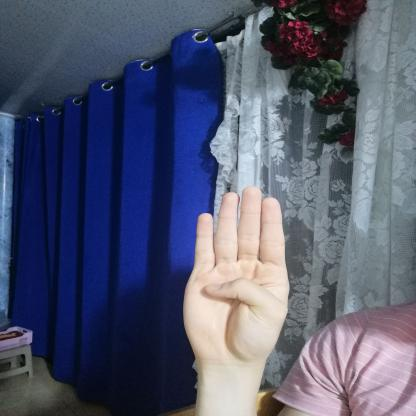KAAF: (170, 177, 301, 376)
